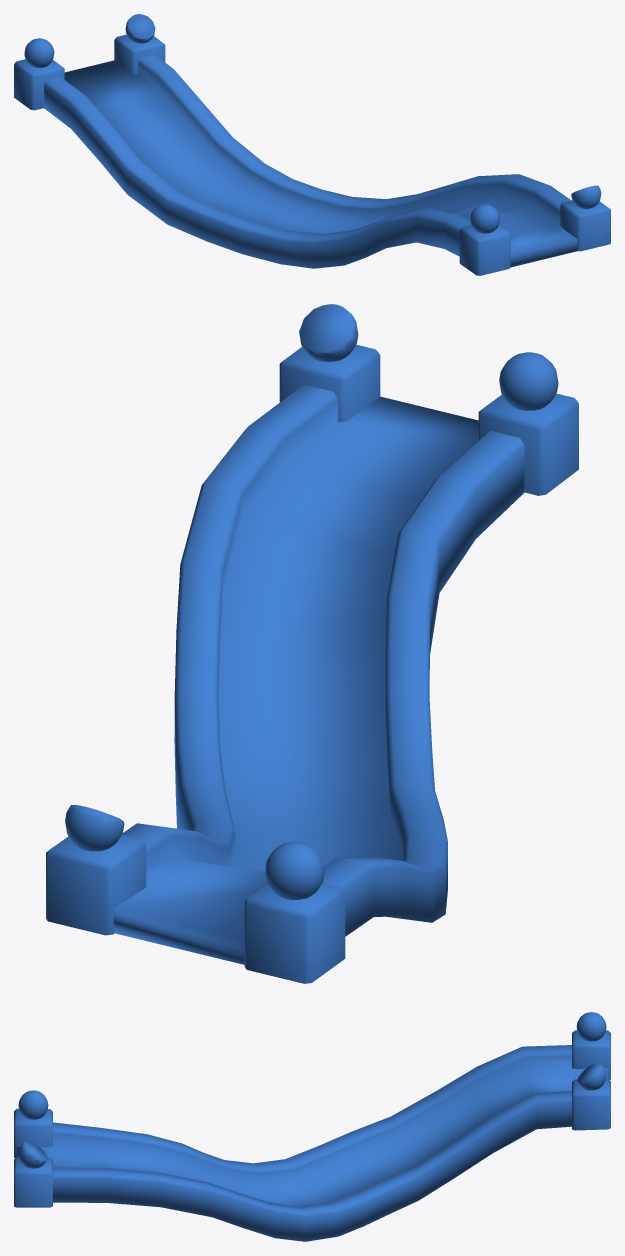
File: bridge_bot_03.fbx
3 renders of one model, top to bottom at view 1: azimuth 30°, elevation 25°; view 2: azimuth 150°, elevation 25°; view 3: azimuth 270°, elevation 25°, orthographic. The views are drawn at different scales.
Visible parts, largest first — view 1: bridge_bot_02; view 2: bridge_bot_02; view 3: bridge_bot_02.
Boxes of the visible parts, bbox=[...] form: bridge_bot_02: bbox=[14, 14, 610, 275]; bridge_bot_02: bbox=[46, 304, 578, 983]; bridge_bot_02: bbox=[14, 1012, 610, 1241].
Size of the model in its own units: 3450 by 1492 by 6045.
